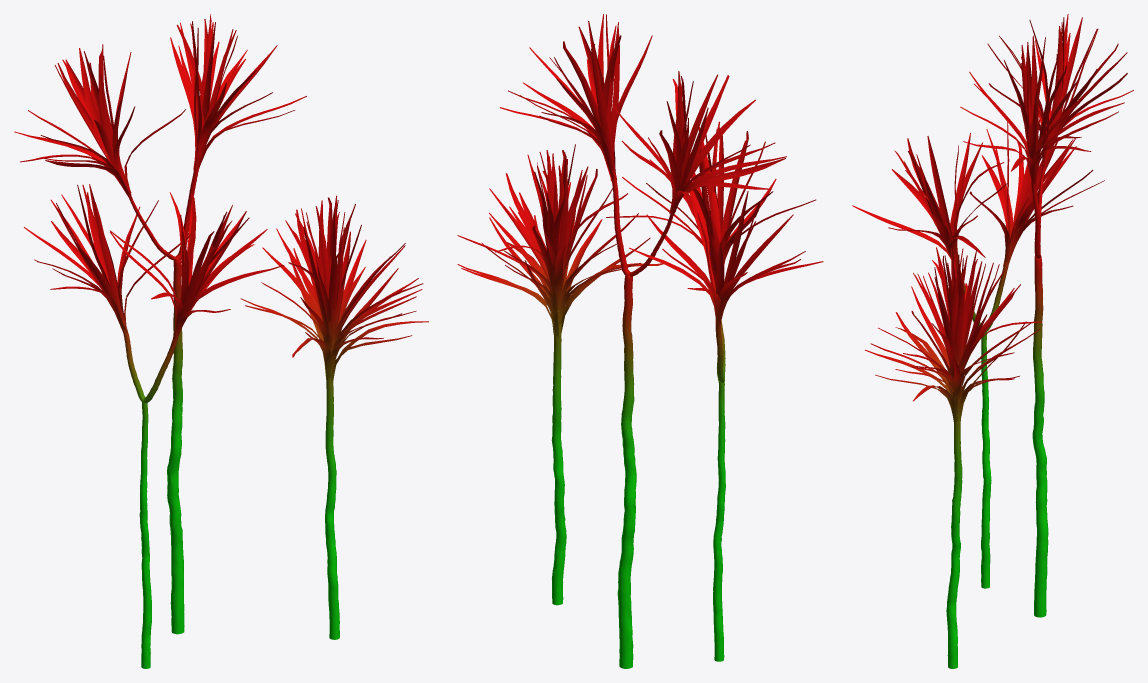
File: Dragon Tree_LOD1_Var6_wfypejzha.fbx
The picture shows the model from 3 angles, left to right: view 1: azimuth 30°, elevation 25°; view 2: azimuth 150°, elevation 25°; view 3: azimuth 270°, elevation 25°; orthographic projection. The views are drawn at different scales.
Parts seen in each view (by area): view 1: _iz2r_Var6_LOD1; view 2: _iz2r_Var6_LOD1; view 3: _iz2r_Var6_LOD1.
Boxes of the visible parts, <box> form: _iz2r_Var6_LOD1: <box>14,14,428,668</box>; _iz2r_Var6_LOD1: <box>457,14,823,668</box>; _iz2r_Var6_LOD1: <box>852,14,1133,668</box>.
Size of the model in its own units: 64.56 by 109 by 47.79.
